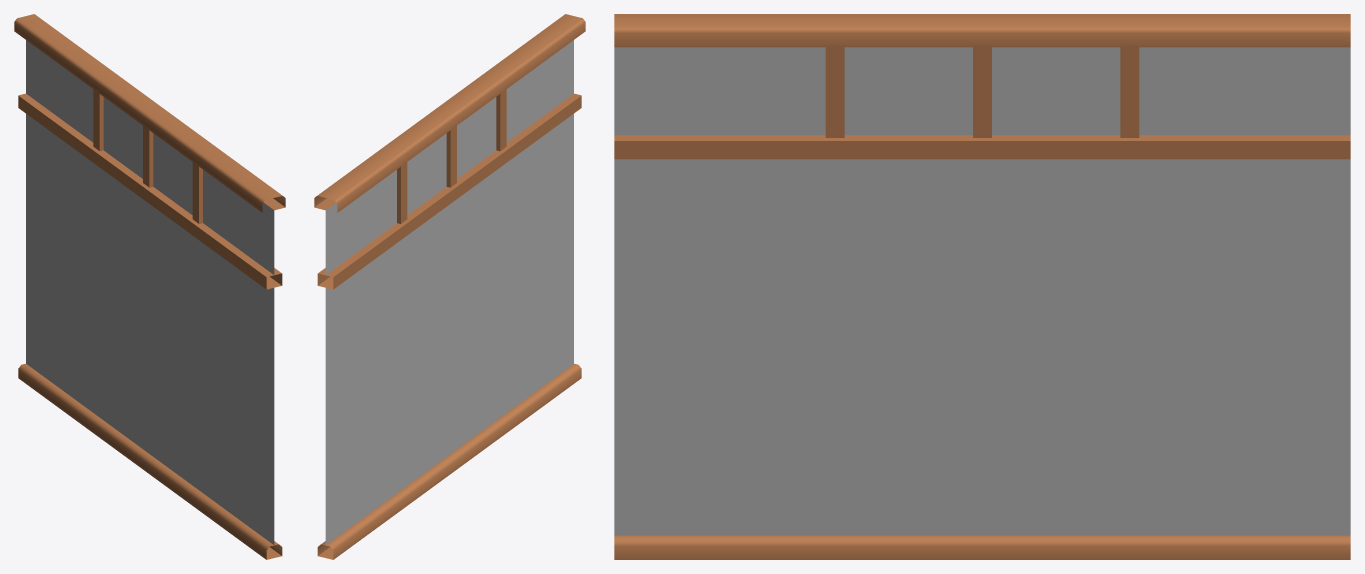
The model's file is Wall_Plaster3.fbx.
3 renders of one model, left to right at view 1: azimuth 30°, elevation 25°; view 2: azimuth 150°, elevation 25°; view 3: azimuth 270°, elevation 25°, orthographic. The views are drawn at different scales.
Parts seen in each view (by area): view 1: polySurface5; view 2: polySurface5; view 3: polySurface5.
Part boxes in pixels (x1=…): polySurface5: x1=14, y1=14, x2=285, y2=559; polySurface5: x1=314, y1=14, x2=585, y2=559; polySurface5: x1=614, y1=14, x2=1350, y2=559.
Size of the model in its own units: 0.5391 by 8 by 10.
